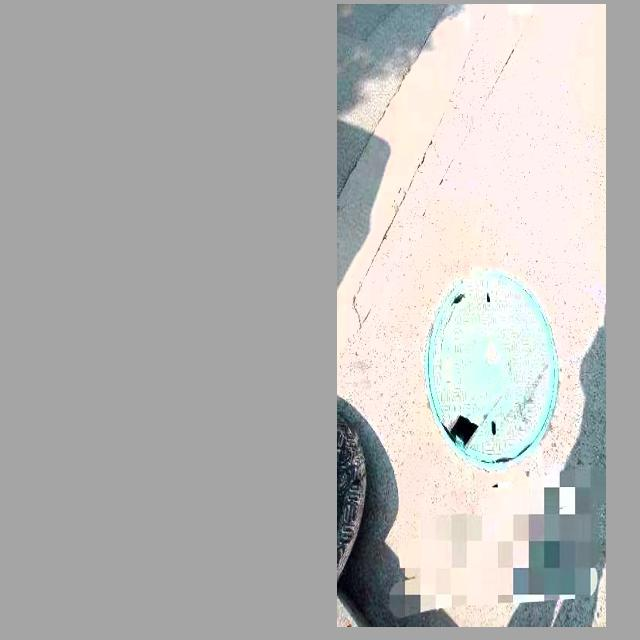broke: (428, 269, 559, 467)
